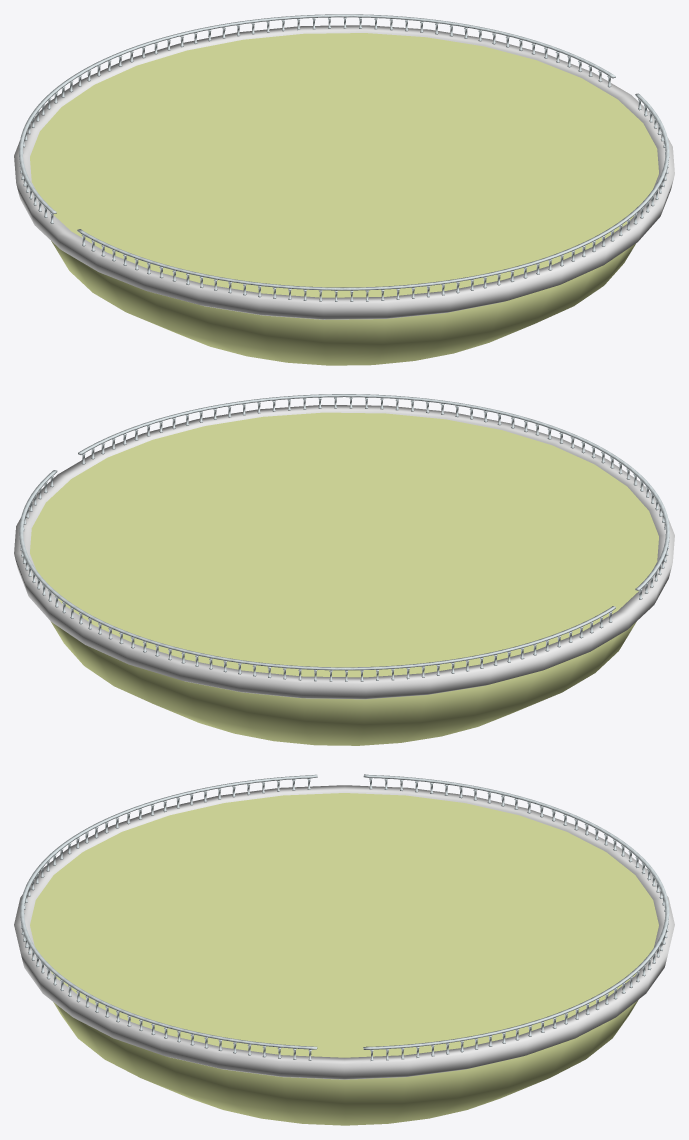
File: LargePlatform_TwoGate.fbx
3 views of the same model, one above another, from view 1: azimuth 30°, elevation 25°; view 2: azimuth 150°, elevation 25°; view 3: azimuth 270°, elevation 25° (orthographic).
Parts seen in each view (by area): view 1: GrassPlatform, Circle, GrassShader, PlatformRailing; view 2: GrassPlatform, Circle, GrassShader, PlatformRailing; view 3: GrassPlatform, Circle, GrassShader, PlatformRailing.
Boxes of the visible parts, <box> form: GrassPlatform: <box>30,33,658,297</box>; Circle: <box>14,25,674,319</box>; GrassShader: <box>51,241,635,365</box>; PlatformRailing: <box>19,14,669,301</box>; GrassPlatform: <box>30,412,658,677</box>; Circle: <box>14,405,674,699</box>; GrassShader: <box>50,621,636,745</box>; PlatformRailing: <box>19,394,669,681</box>; GrassPlatform: <box>30,793,658,1057</box>; Circle: <box>14,785,674,1079</box>; GrassShader: <box>53,999,638,1125</box>; PlatformRailing: <box>20,774,669,1060</box>.
Bounding box in the file's own units: 22500 × 6089 × 22500.
